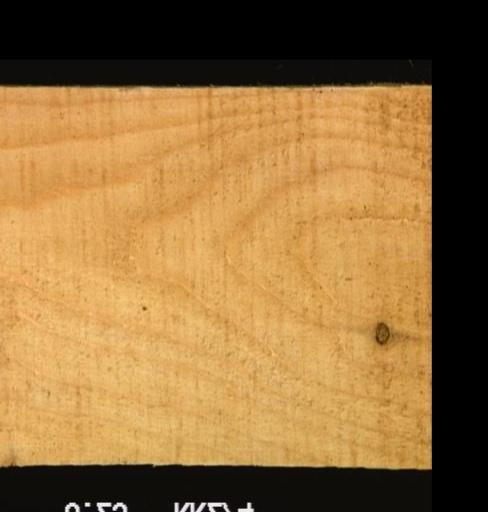dry_knot: (371, 317, 390, 346)
